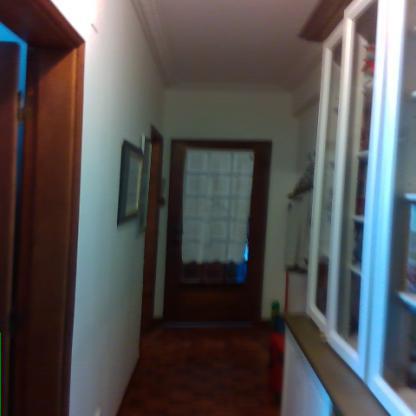door: (175, 143, 262, 320), (0, 40, 17, 415)
hinged: (14, 85, 26, 124)
